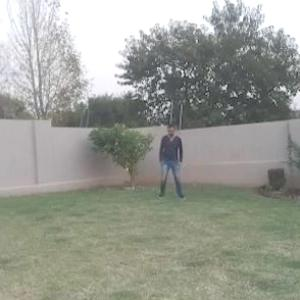follow: (158, 118, 186, 205)
